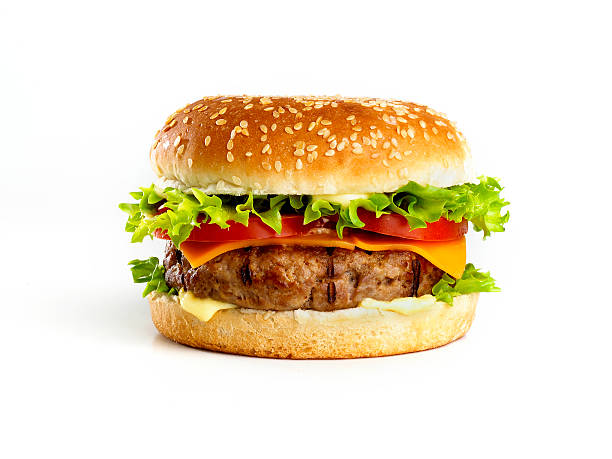hamburger: (126, 66, 512, 378)
